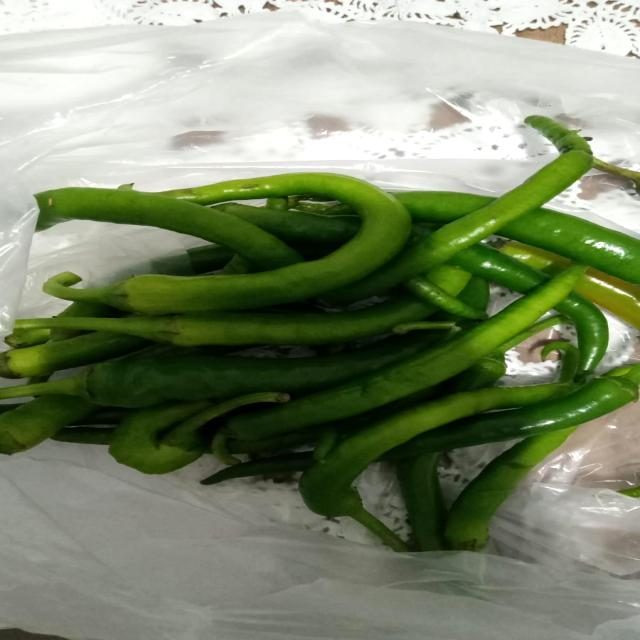green pepper: (208, 254, 624, 468), (0, 321, 434, 426)
